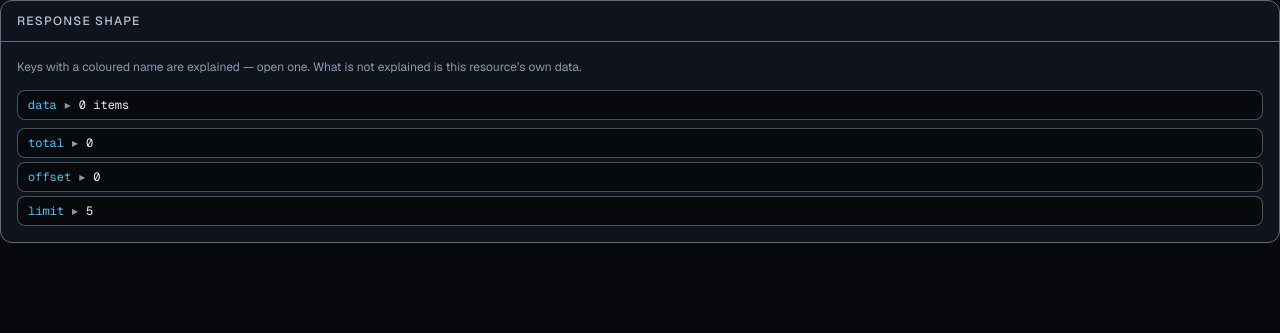
Test: ResponseShape › explains an envelope key on demand, and names it a convention
Click the button "data ▸ 0 items" at (104, 104), box [28, 96, 1252, 112]
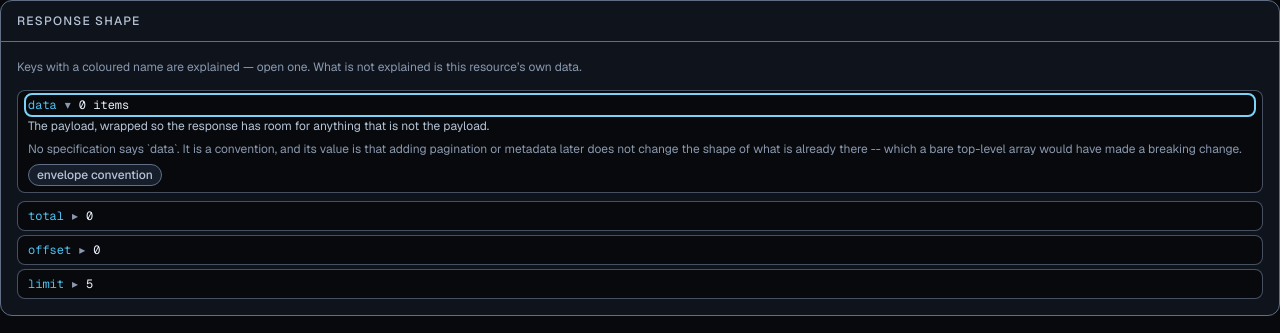
Now the text "No specification says .data." is shown, box [28, 141, 1242, 157]
Now the text "envelope convention" is shown, box [28, 164, 162, 186]
